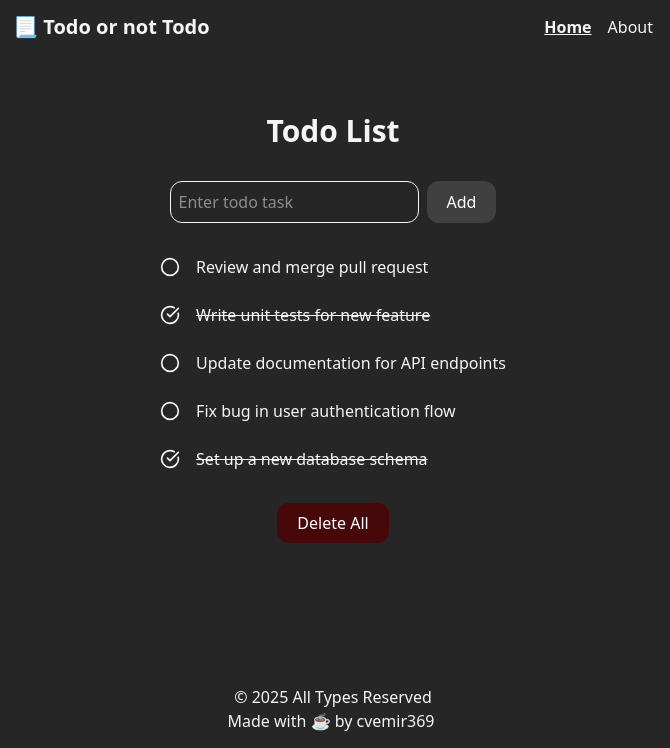
Test case: todo items › should load default todos
This screenshot has width=670, height=748.
What coordinates should you click on to do the following:
click the button "Delete All"
I would click on:
 (333, 523)
Its box is [277,503,388,543].
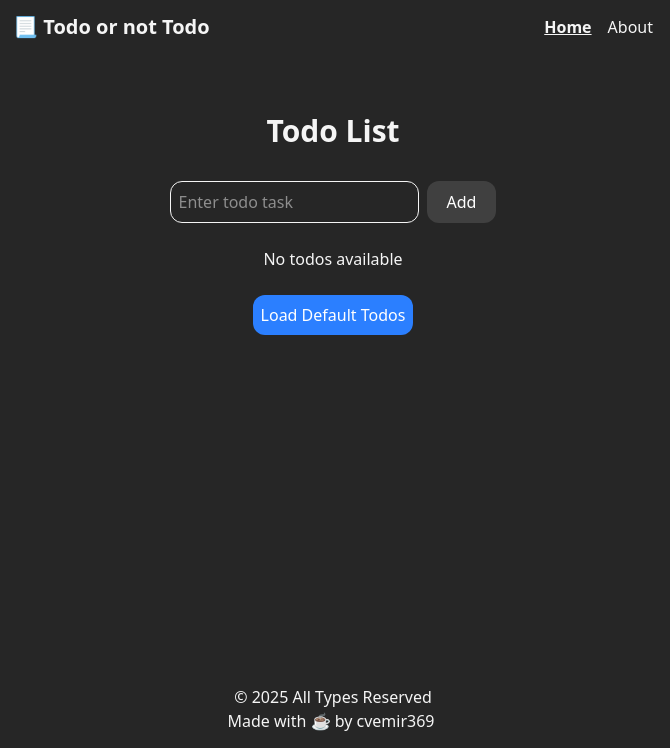
What coordinates should you click on to do the following:
click the button "Load Default Todos"
I would click on:
 (334, 315)
Its box is [253,295,414,335].
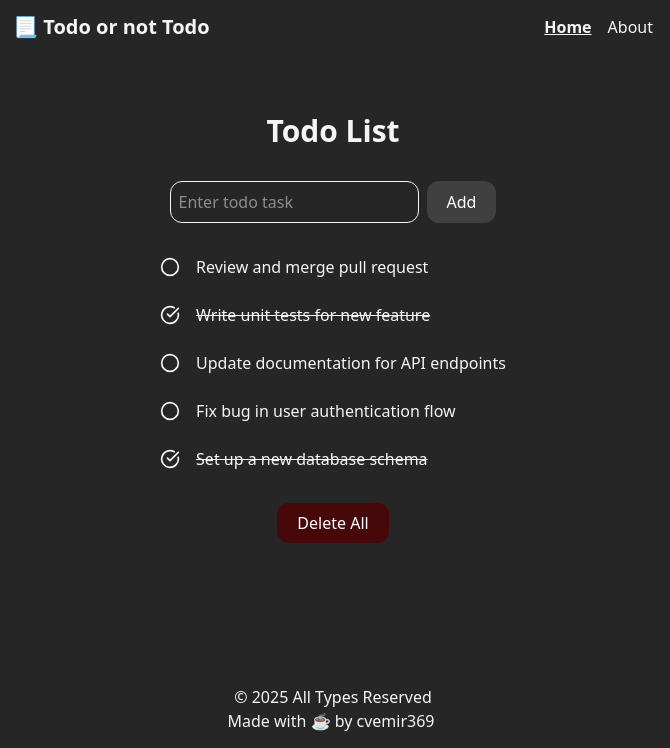
Expected: the number of list items is more than 0
